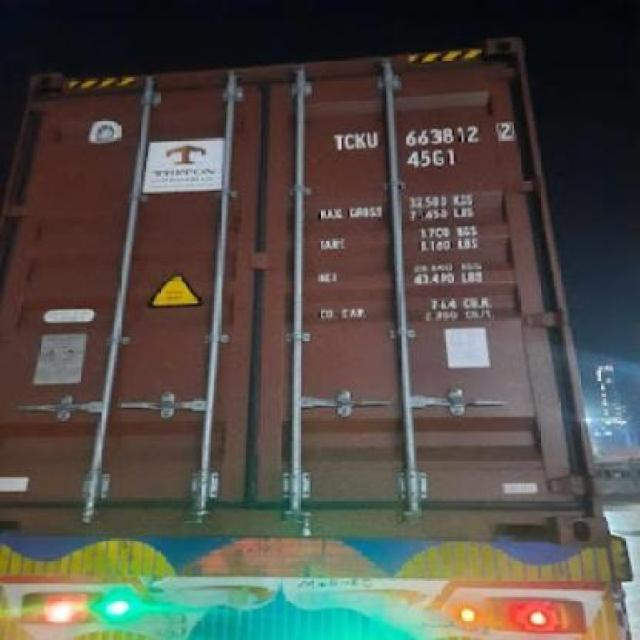ISO: (406, 148, 457, 168)
container_number: (337, 122, 505, 148)
